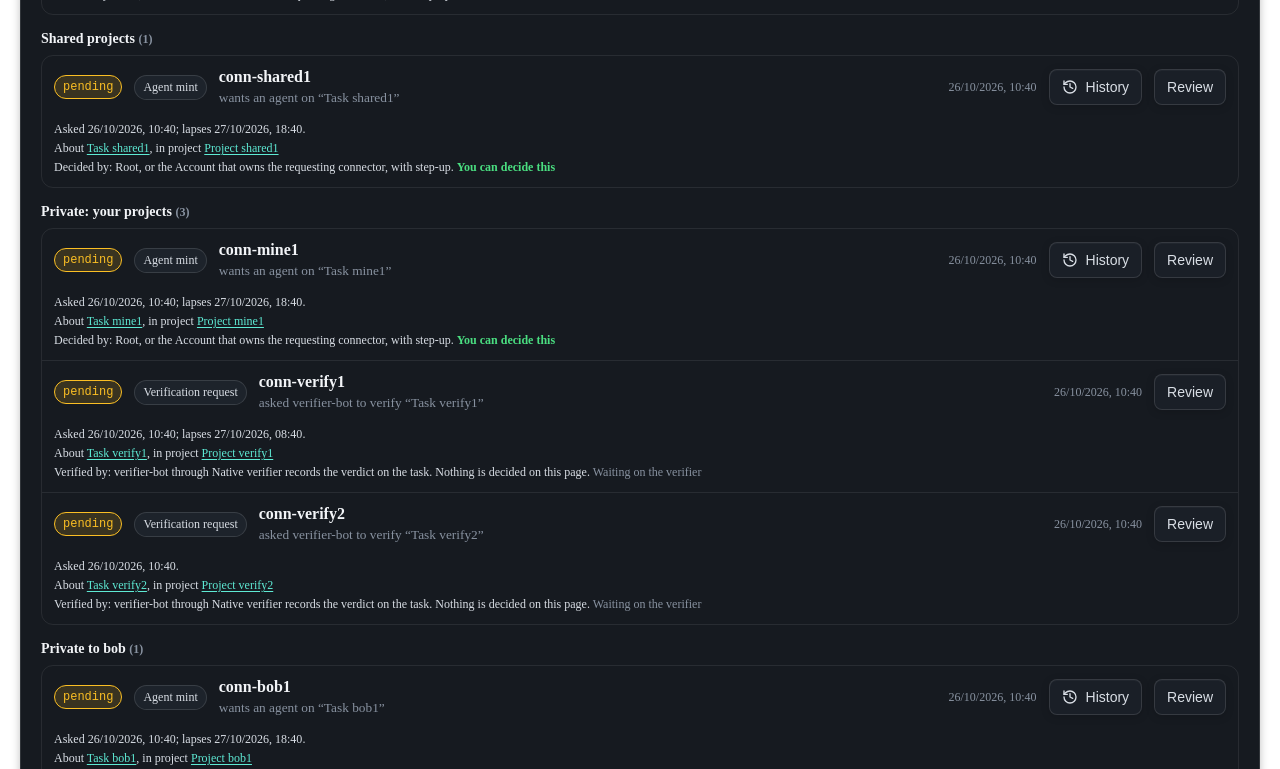
Test: verification requests waiting on a verifier (review round 2, blocker B1) › listed read-only: who asked, which task, when, and the verifier; no History and no decision of any kind
(page scrolled)
Expected: the text "Verification request" next to "conn-verify1" is shown, [143, 384, 238, 398]
Expected: the text "asked verifier-bot to verify “Task verify1”" is shown, [259, 395, 484, 410]
Step 1. Click the button "Review" in the row of "conn-verify1" → (1190, 392), box [1154, 374, 1226, 410]
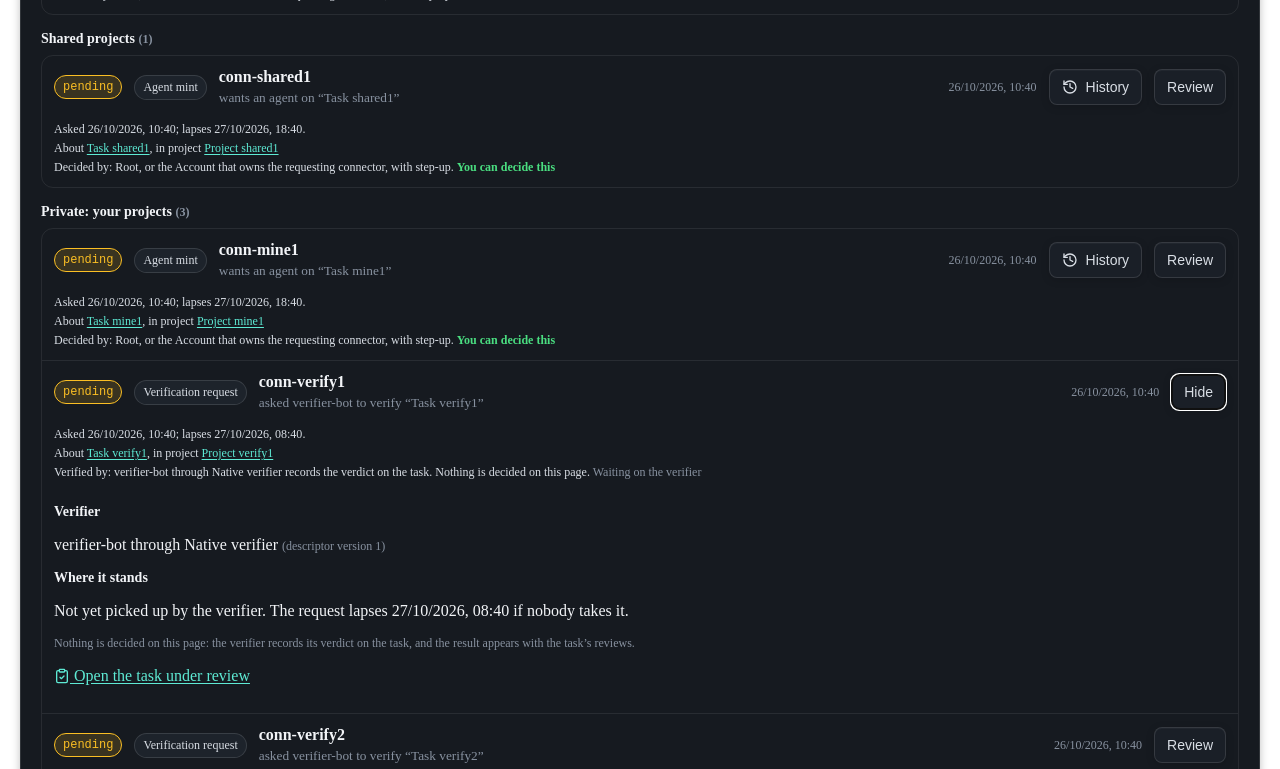
Result: the text "verifier-bot through Native verifier (descriptor version 1)" is shown at [54, 536, 385, 553]
Result: the text "Not yet picked up by the verifier" is shown at [54, 602, 392, 619]
Result: the text "Nothing is decided on this page: the verifier records its verdict on the task" is shown at [54, 636, 635, 650]
Step 2. Click the button "Review" in the row of "conn-verify2" → (1190, 745), box [1154, 727, 1226, 763]
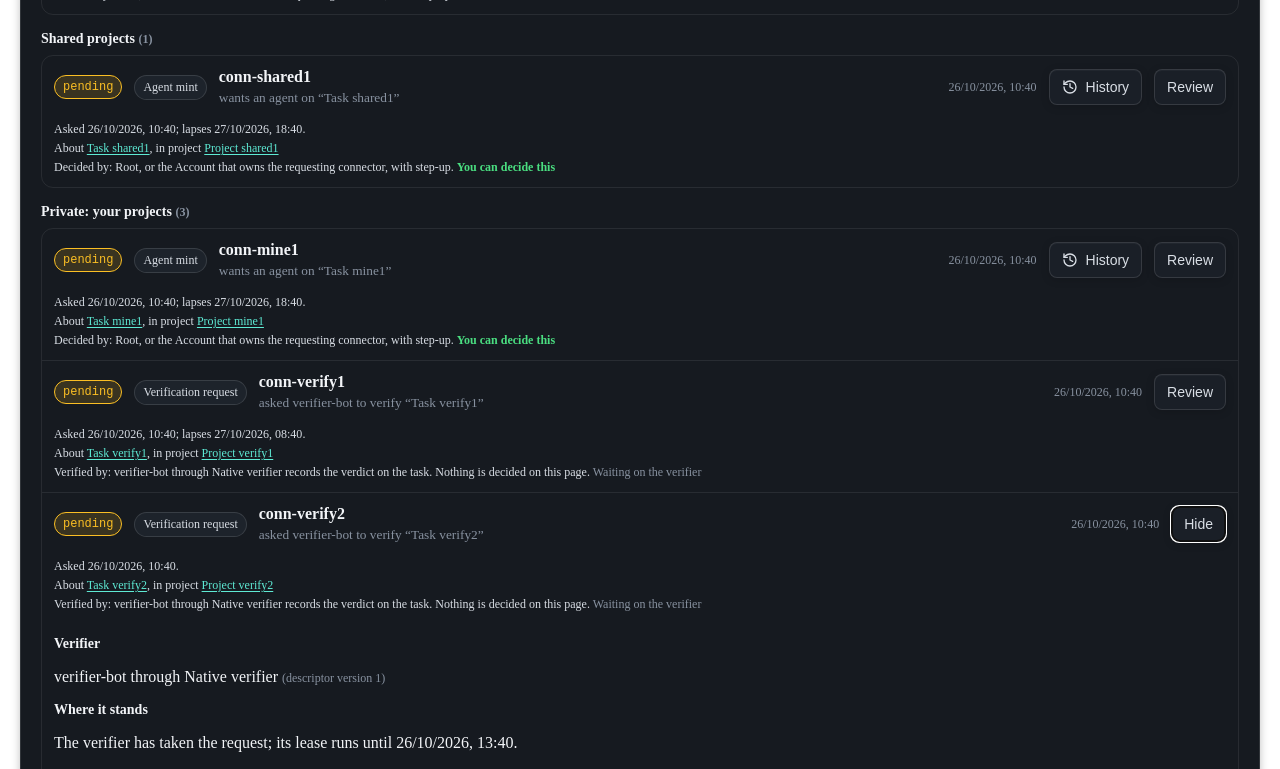
Result: the text "The verifier has taken the request; its lease runs until" is shown at [54, 734, 518, 751]
